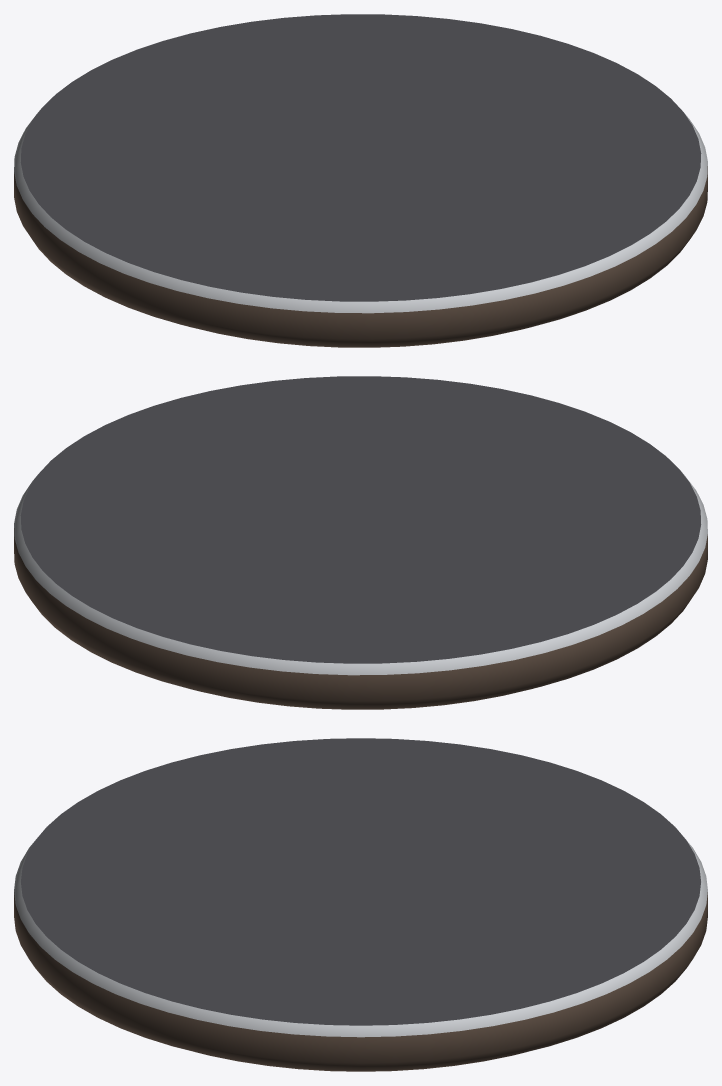
Rendered from heatshield_l.glb.
3 views of the same model, one above another, from view 1: azimuth 30°, elevation 25°; view 2: azimuth 150°, elevation 25°; view 3: azimuth 270°, elevation 25° (orthographic).
Visible parts, largest first — view 1: heatshield_l; view 2: heatshield_l; view 3: heatshield_l.
Boxes of the visible parts, bbox=[...] form: heatshield_l: bbox=[14, 14, 707, 347]; heatshield_l: bbox=[14, 376, 707, 709]; heatshield_l: bbox=[14, 738, 707, 1071].
Bounding box in the file's own units: 2.55 × 0.35 × 2.55.
